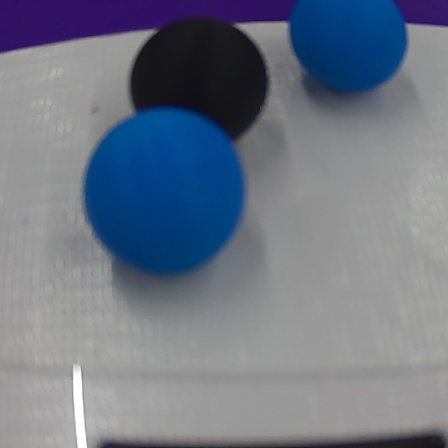black: (127, 17, 271, 143)
blue: (81, 105, 244, 279), (287, 0, 408, 102)
